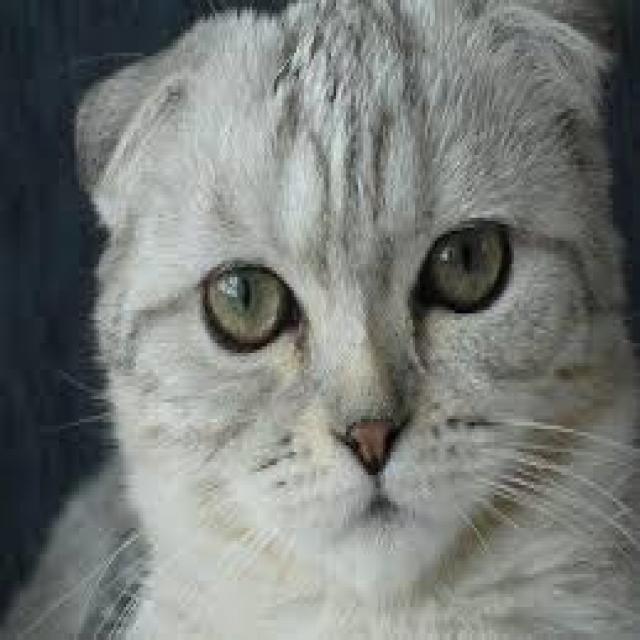cat-face: (75, 6, 610, 595)
